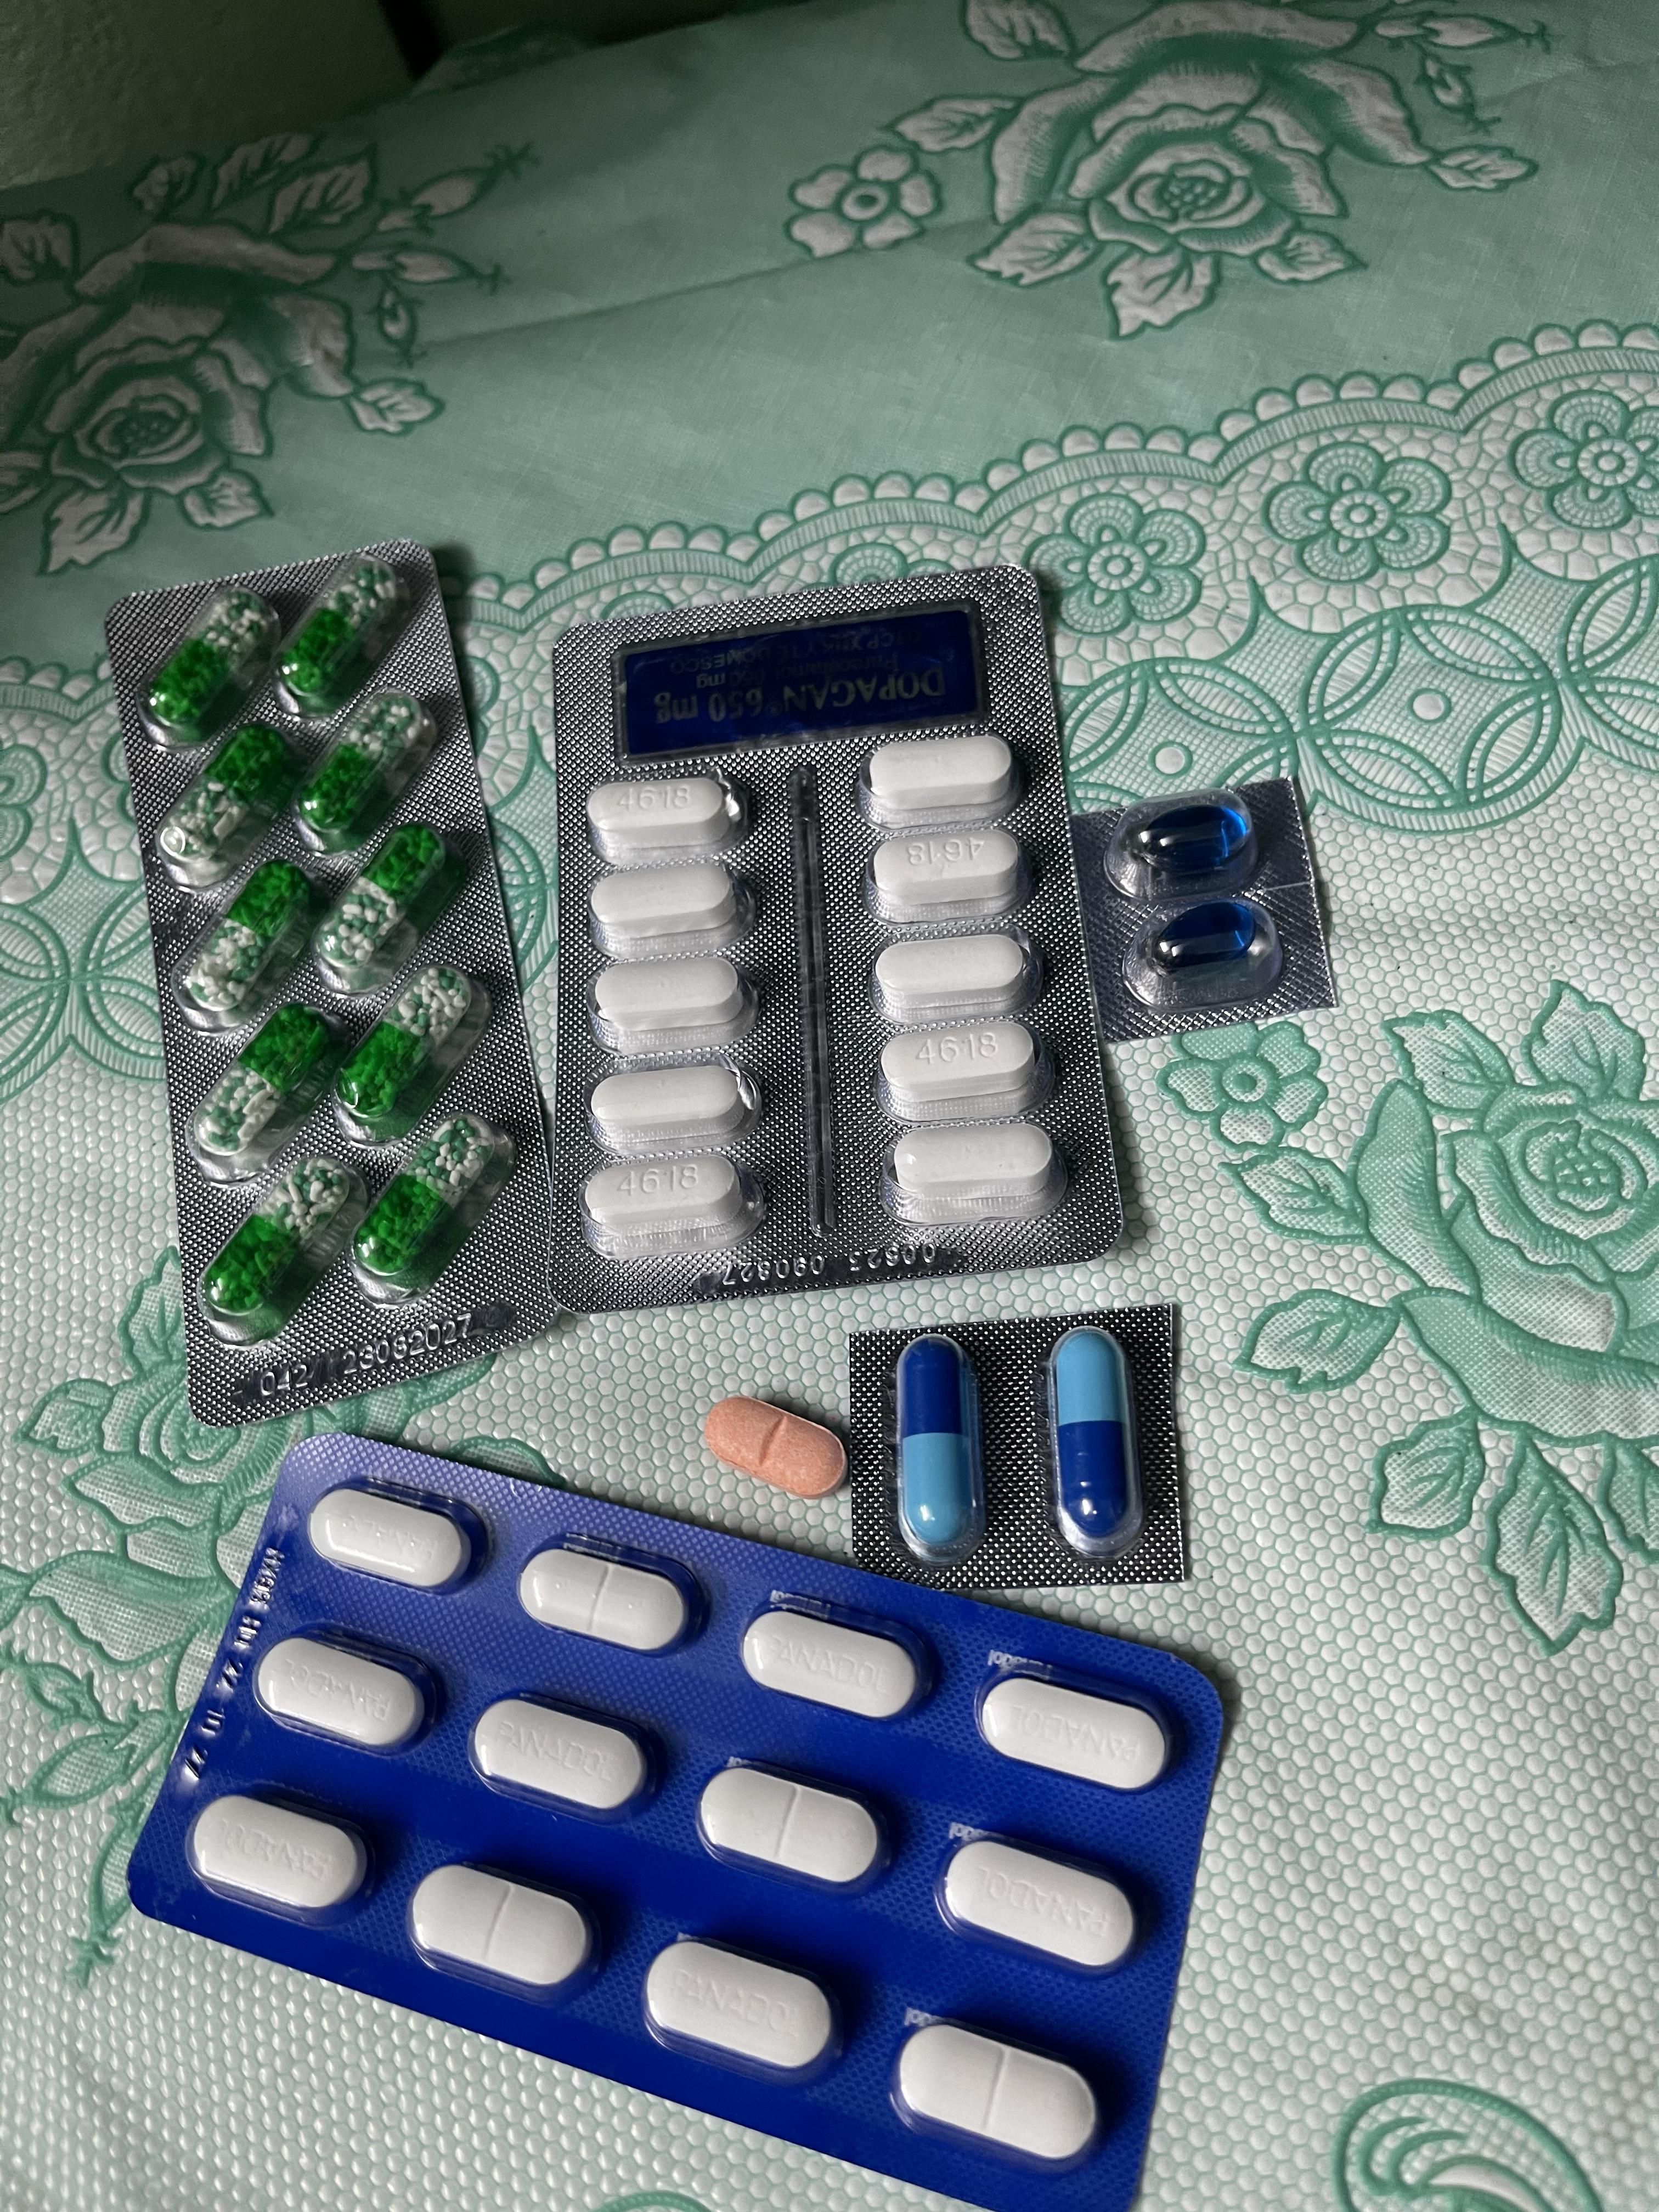Lincomyxin_500mg: (1150, 899, 1260, 968), (1141, 801, 1248, 867)
Loratadine_10mg: (704, 1395, 845, 1500)
Paracetamol_350mg: (889, 2015, 1103, 2172), (643, 1937, 847, 2087), (938, 1832, 1147, 1977), (976, 1658, 1182, 1797), (408, 1862, 601, 2005), (697, 1761, 894, 1895), (469, 1693, 667, 1824), (739, 1594, 934, 1723), (188, 1789, 375, 1923), (253, 1629, 439, 1756), (518, 1534, 706, 1656), (308, 1477, 488, 1588)
Paracetamol_500mg: (584, 1150, 760, 1259), (889, 1116, 1061, 1223), (875, 1014, 1042, 1116), (591, 951, 756, 1054), (587, 1064, 756, 1157), (589, 857, 748, 954), (875, 932, 1037, 1026), (870, 826, 1023, 920), (587, 773, 741, 866), (866, 733, 1018, 820)
Paracetamol_650mg: (195, 1155, 371, 1339), (349, 1111, 518, 1299), (190, 996, 354, 1176), (333, 967, 491, 1144), (314, 831, 467, 1001), (157, 725, 314, 883), (288, 695, 439, 857), (176, 862, 324, 1015), (141, 587, 281, 749), (272, 559, 411, 718)
pill: (1040, 1325, 1140, 1561), (894, 1339, 985, 1566)
